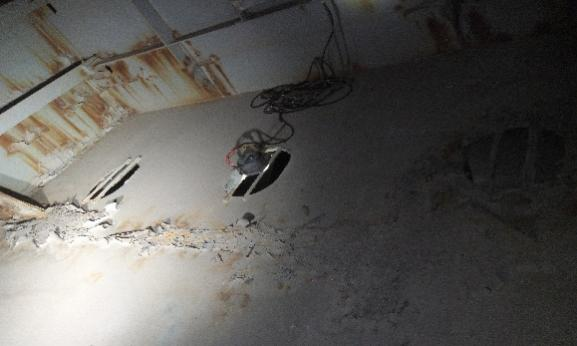corrosion: (105, 49, 231, 111), (52, 79, 127, 137), (0, 122, 70, 173), (16, 14, 74, 62), (5, 63, 61, 97), (0, 176, 32, 228)
